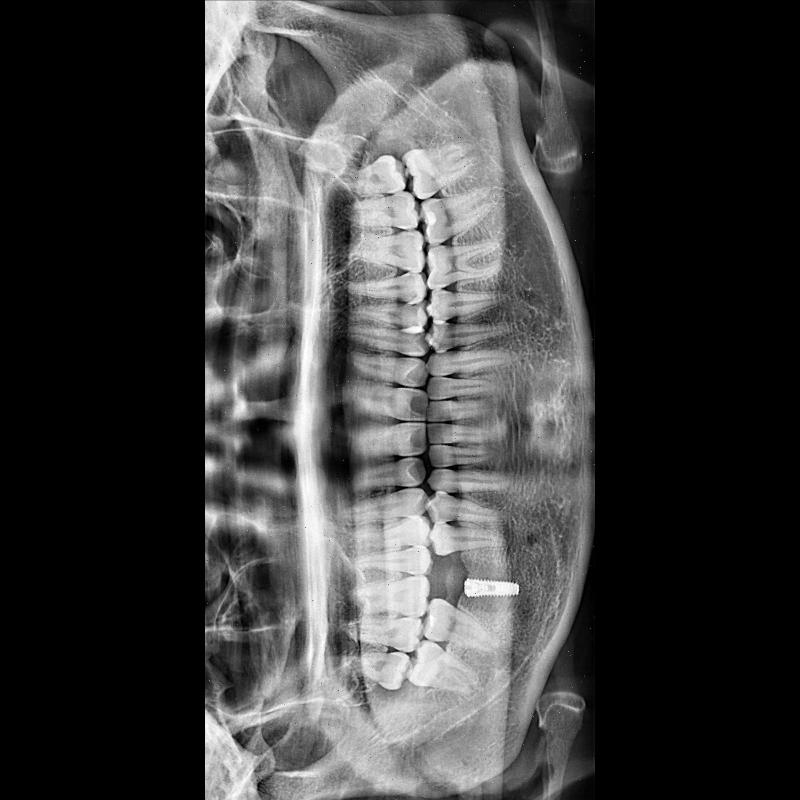osstem: (462, 568, 526, 604)
